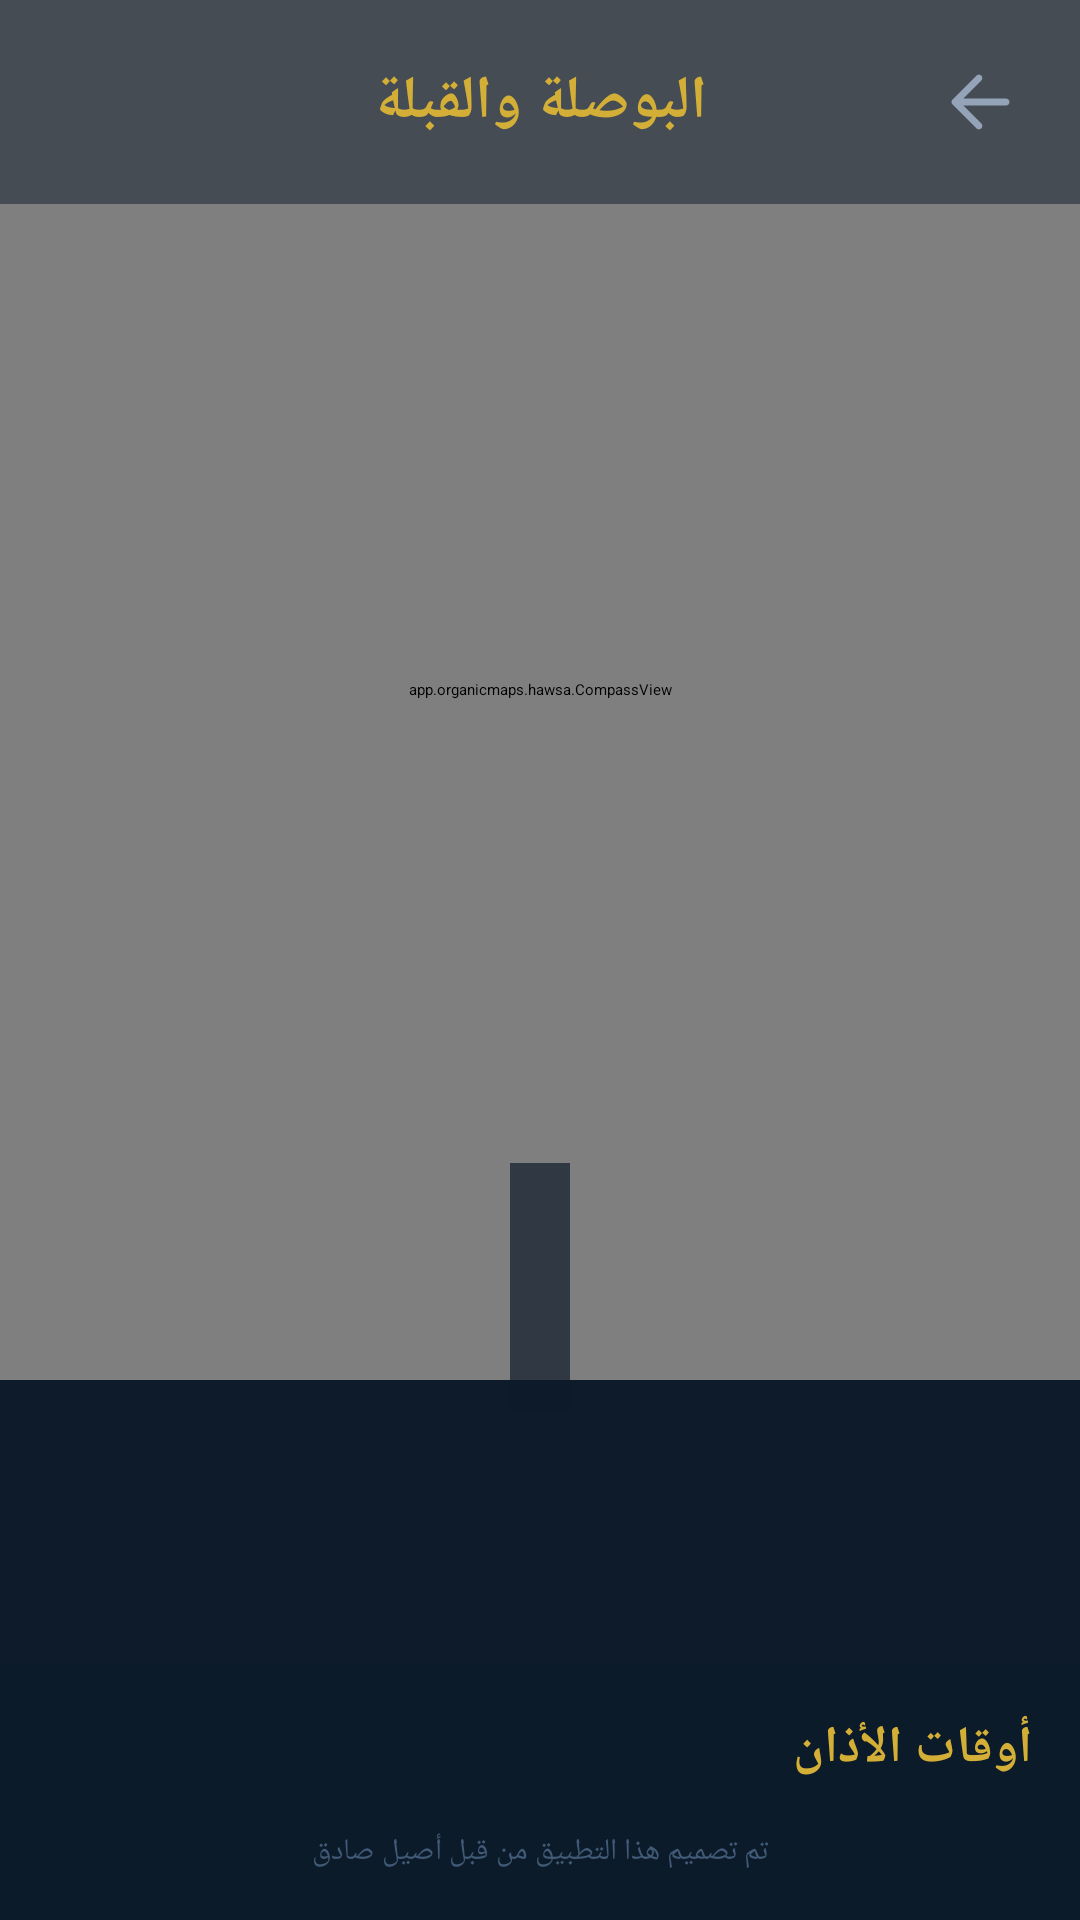

Where icons sit on this 1080w x 1920h app screen, as region(x1, y1, x2, y2):
رجوع: region(951, 74, 1010, 130)
